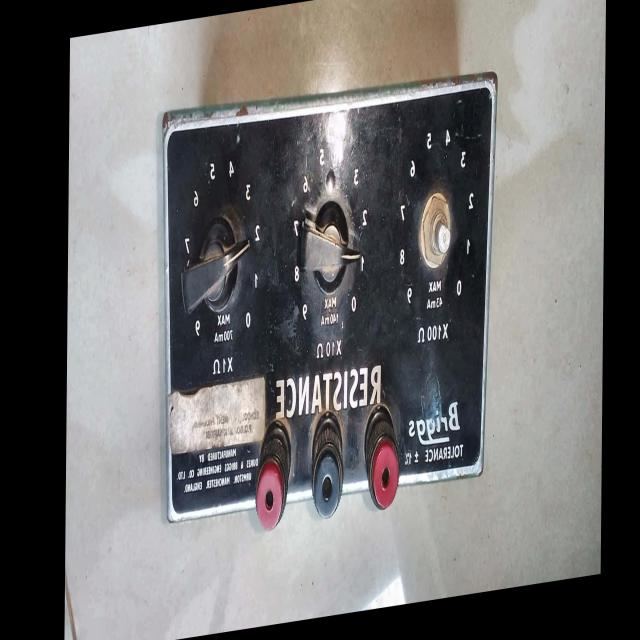Dial Resistance Box: (154, 44, 498, 558)
